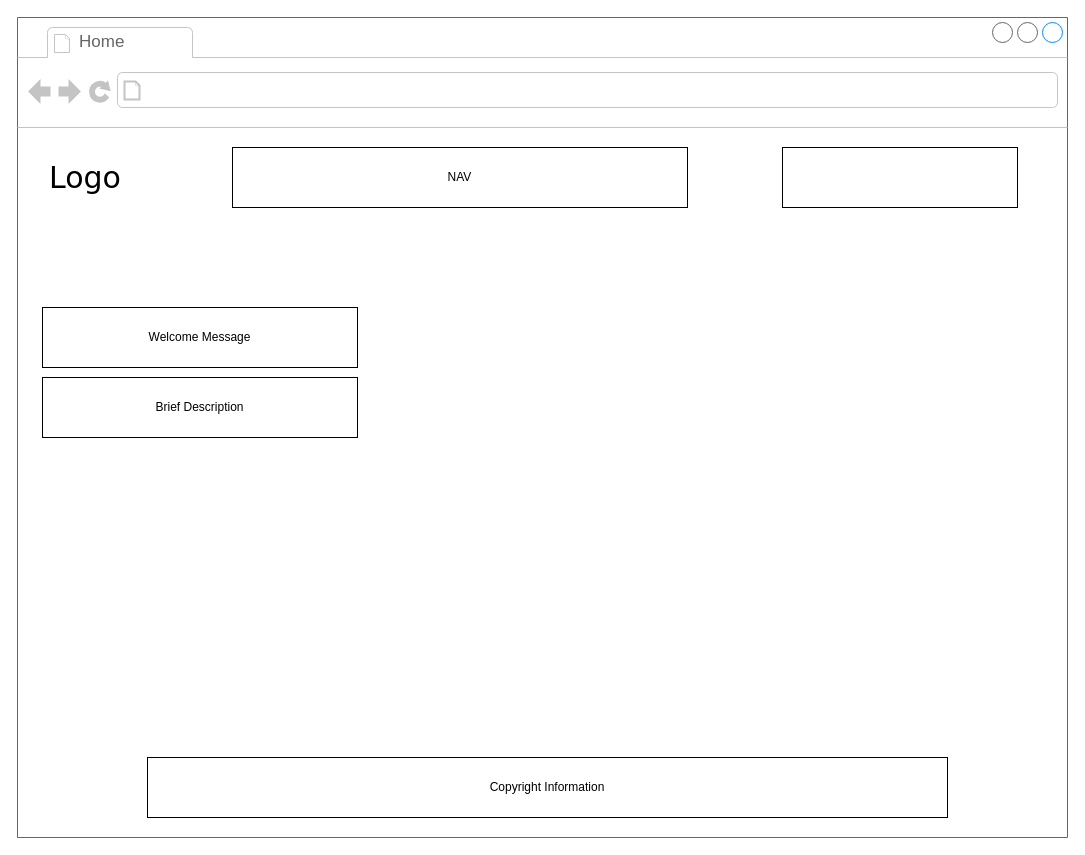
This 1085x855 diagram has some shape labels left out. The centre of each missing label's shape, as x and y in pixels:
file:///C:/Users/umer1/programming-4/Index.html: the point at 272,90
Website Name: the point at 900,177
